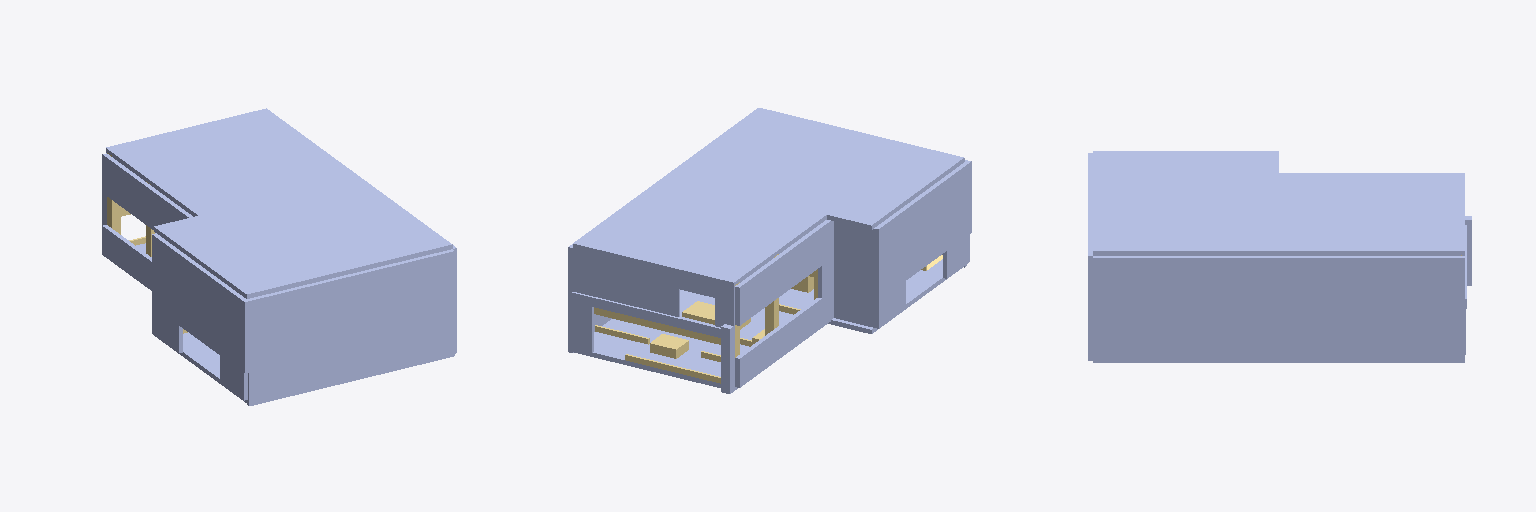
File: Room3_Primitives.obj
3 views of the same model, side by side, from view 1: azimuth 30°, elevation 25°; view 2: azimuth 150°, elevation 25°; view 3: azimuth 270°, elevation 25° (orthographic).
Visible parts, largest first — view 1: Room3_Primitives; view 2: Room3_Primitives; view 3: Room3_Primitives.
Boxes of the visible parts, box(x1,y1,x2,y2) form: Room3_Primitives: box(102, 108, 456, 405); Room3_Primitives: box(568, 108, 971, 393); Room3_Primitives: box(1088, 151, 1471, 362).
Size of the model in its own units: 48 by 23.5 by 74.5.